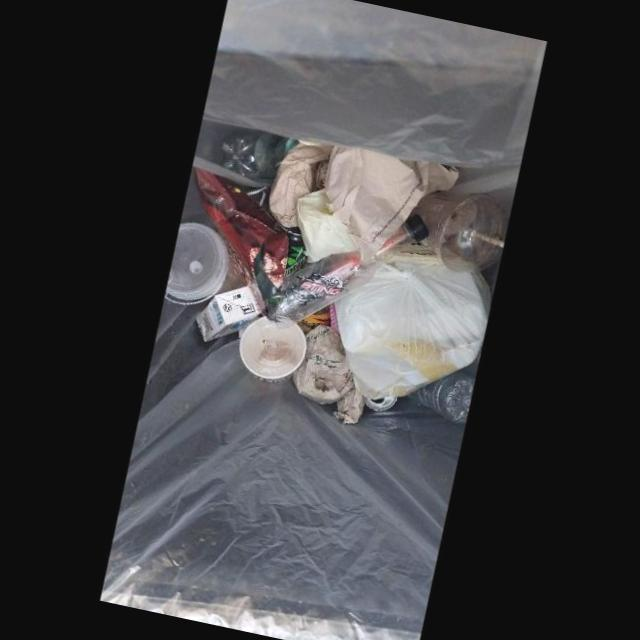bao_bi_thuc_pham: (193, 168, 290, 309)
chai_nhua: (213, 125, 288, 179)
chai_thuy_tinh: (259, 218, 427, 330)
giay: (327, 147, 455, 252), (295, 324, 364, 424), (295, 183, 375, 263), (267, 141, 337, 229)
hop_nhua: (415, 193, 500, 274), (164, 224, 236, 302), (238, 317, 308, 383)
ong_hut_nhua: (469, 227, 504, 251)
tui_ni_long: (333, 251, 489, 399)
vo_hop_sua: (195, 280, 263, 339)
